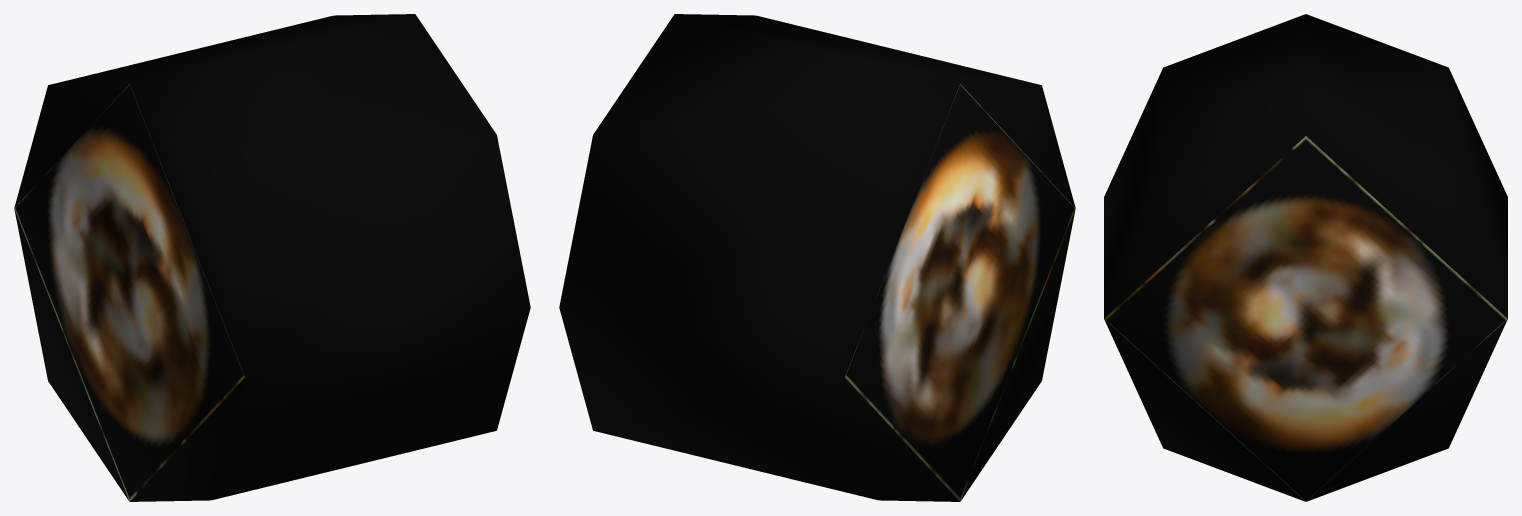
Rendered from WheelRearL.obj.
3 views of the same model, side by side, from view 1: azimuth 30°, elevation 25°; view 2: azimuth 150°, elevation 25°; view 3: azimuth 270°, elevation 25° (orthographic). The views are drawn at different scales.
Visible parts, largest first — view 1: WheelRearL; view 2: WheelRearL; view 3: WheelRearL.
Part boxes in pixels (x1=…): WheelRearL: x1=14, y1=14, x2=530, y2=501; WheelRearL: x1=559, y1=14, x2=1075, y2=501; WheelRearL: x1=1104, y1=14, x2=1507, y2=501.
Bounding box in the file's own units: 0.7001 × 0.9793 × 0.9793.
2 materials, 1 textured.
